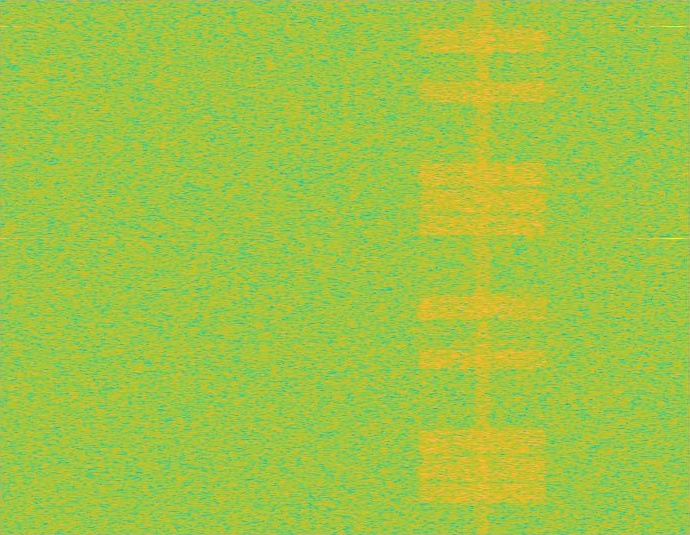DSSS: (474, 0, 492, 534)
LTE: (414, 0, 552, 534)
Radar: (668, 0, 681, 534)
